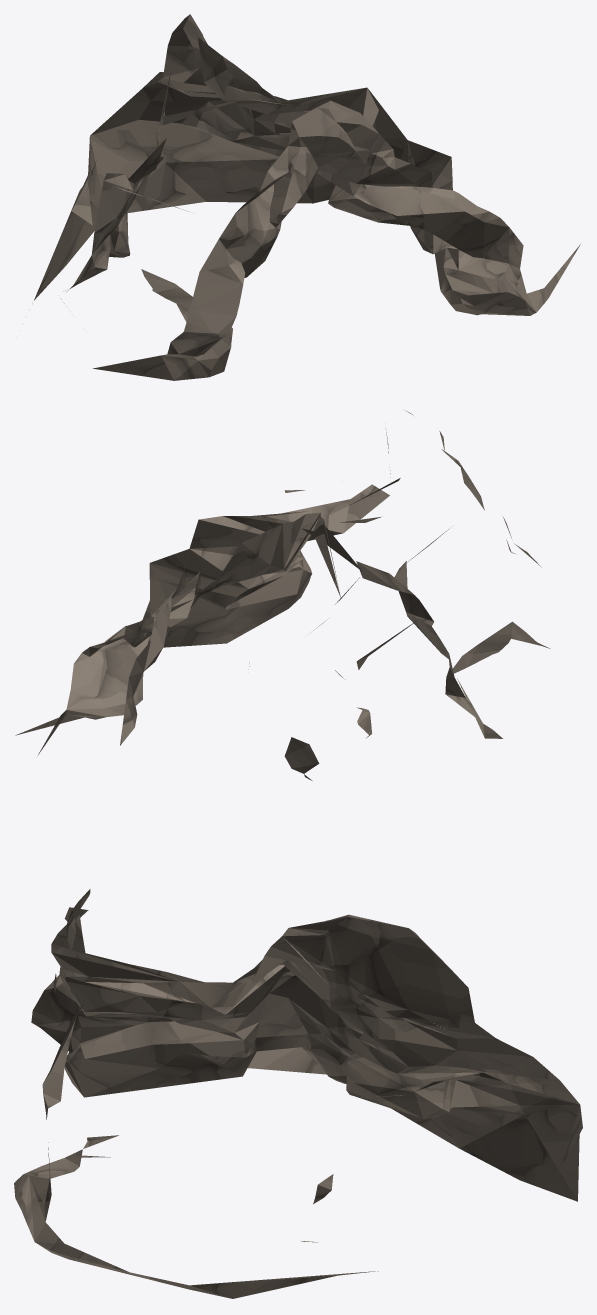
Rendered from synty-rock-caveinterior-02.gltf.
The picture shows the model from 3 angles, top to bottom: view 1: azimuth 30°, elevation 25°; view 2: azimuth 150°, elevation 25°; view 3: azimuth 270°, elevation 25°; orthographic projection. The views are drawn at different scales.
Visible parts, largest first — view 1: SM_Rock_CaveInterior_02; view 2: SM_Rock_CaveInterior_02; view 3: SM_Rock_CaveInterior_02.
Boxes of the visible parts, box(x1,y1,x2,y2) form: SM_Rock_CaveInterior_02: box(34, 14, 580, 380); SM_Rock_CaveInterior_02: box(15, 410, 550, 780); SM_Rock_CaveInterior_02: box(14, 889, 582, 1298).
Bounding box in the file's own units: 13.61 × 7.24 × 11.77.
Materials: 1 (1 with a texture image).
